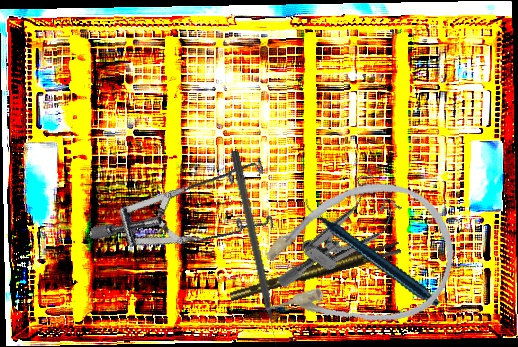Cannula: (241, 169, 466, 347)
Handpiece: (302, 169, 442, 334)
Pusher: (228, 150, 281, 347)
Speculum: (87, 110, 295, 297), (275, 160, 411, 318)
Tissue Forceps: (227, 240, 403, 302)
